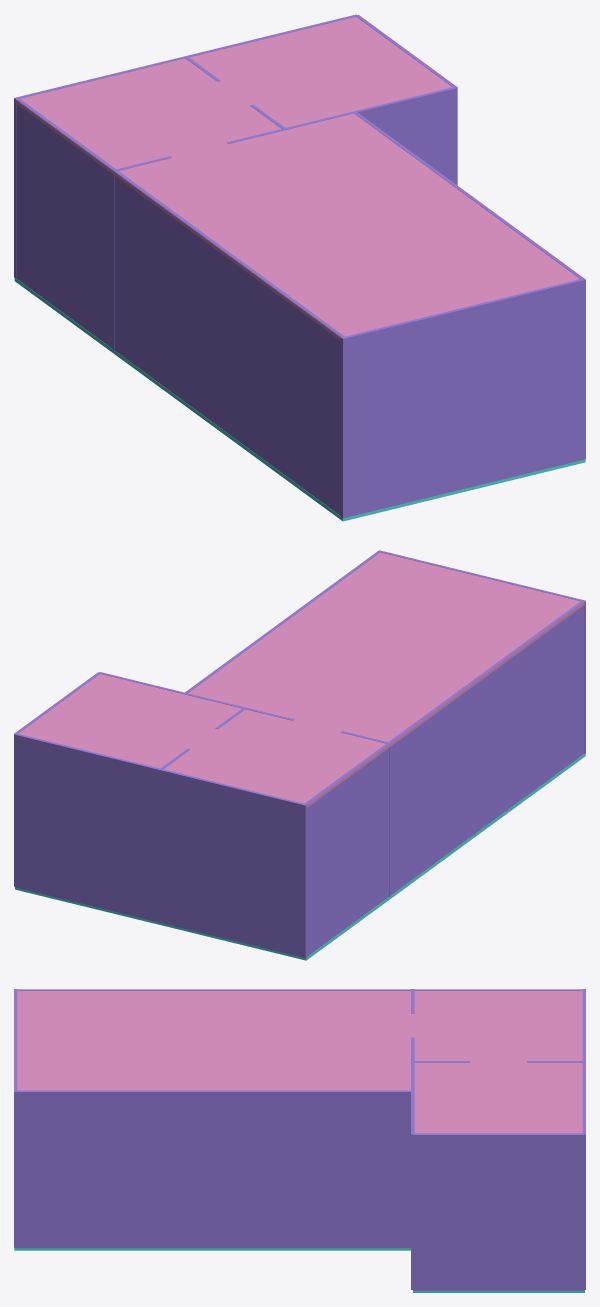
File: aaa.fbx
3 views of the same model, one above another, from view 1: azimuth 30°, elevation 25°; view 2: azimuth 150°, elevation 25°; view 3: azimuth 270°, elevation 25° (orthographic). The views are drawn at different scales.
Parts seen in each view (by area): view 1: ROOF.2, Wall.9, Wall.6, Wall.1, ROOF, ROOF.3, Wall.013, Floor, Wall.8, Wall.4, Wall.3; view 2: ROOF.2, Wall.6, Wall.4, Wall.012, Wall.1, ROOF, ROOF.3, Wall.9, Floor, Floor.001, Wall.8, Wall.3; view 3: Wall.8, ROOF.2, Wall.014, ROOF.3, ROOF, Floor, Wall.6, Wall.013, Wall.012, Wall.9, Floor.002.
Part boxes in pixels (<box>): ROOF.2: <box>113,113,579,340</box>; Wall.9: <box>341,279,585,518</box>; Wall.6: <box>115,171,346,515</box>; Wall.1: <box>16,98,116,348</box>; ROOF: <box>14,58,281,174</box>; ROOF.3: <box>189,16,452,127</box>; Wall.013: <box>284,87,456,184</box>; Floor: <box>113,350,585,521</box>; Wall.8: <box>354,112,585,458</box>; Wall.4: <box>14,56,185,278</box>; Wall.3: <box>112,156,171,350</box>; ROOF.2: <box>188,552,584,746</box>; Wall.6: <box>388,601,583,894</box>; Wall.4: <box>160,769,307,958</box>; Wall.012: <box>14,733,161,922</box>; Wall.1: <box>305,743,389,956</box>; ROOF: <box>164,709,389,807</box>; ROOF.3: <box>18,674,241,768</box>; Wall.9: <box>380,550,585,754</box>; Floor: <box>389,754,585,899</box>; Floor.001: <box>160,896,389,960</box>; Wall.8: <box>185,550,381,693</box>; Wall.3: <box>341,731,391,896</box>; Wall.8: <box>14,1090,410,1247</box>; ROOF.2: <box>17,991,412,1090</box>; Wall.014: <box>412,1133,584,1290</box>; ROOF.3: <box>414,1062,582,1133</box>; ROOF: <box>413,991,582,1061</box>; Floor: <box>14,1248,410,1250</box>; Wall.6: <box>17,989,410,990</box>; Wall.013: <box>411,1061,414,1289</box>; Wall.012: <box>582,1061,585,1289</box>; Wall.9: <box>14,989,17,1247</box>; Floor.002: <box>413,1290,584,1292</box>.
Bounding box in the file's own units: 2415 × 1226 × 4004.
